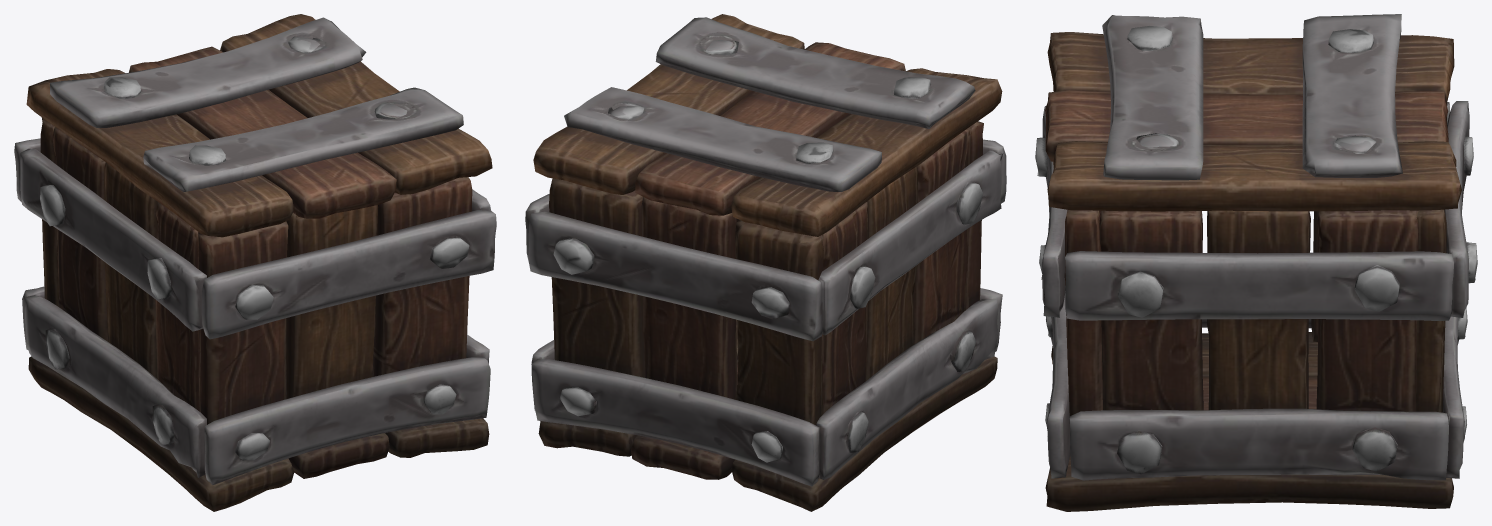
3 views of the same model, side by side, from view 1: azimuth 30°, elevation 25°; view 2: azimuth 150°, elevation 25°; view 3: azimuth 270°, elevation 25° (orthographic). The views are drawn at different scales.
Parts seen in each view (by area): view 1: Wood_Low, Metal_low, Bolt_Low; view 2: Wood_Low, Metal_low, Bolt_Low; view 3: Wood_Low, Metal_low, Bolt_Low.
Boxes of the visible parts, x1,y1,x2,y2 form: Wood_Low: [26, 14, 492, 511]; Metal_low: [14, 17, 496, 484]; Bolt_Low: [40, 36, 469, 460]; Wood_Low: [533, 14, 1002, 511]; Metal_low: [525, 17, 1006, 486]; Bolt_Low: [553, 40, 982, 462]; Wood_Low: [1045, 32, 1461, 511]; Metal_low: [1042, 14, 1469, 480]; Bolt_Low: [1035, 26, 1477, 474].
Size of the model in its own units: 1.79 by 1.77 by 2.
Materials: 1 (1 with a texture image).
